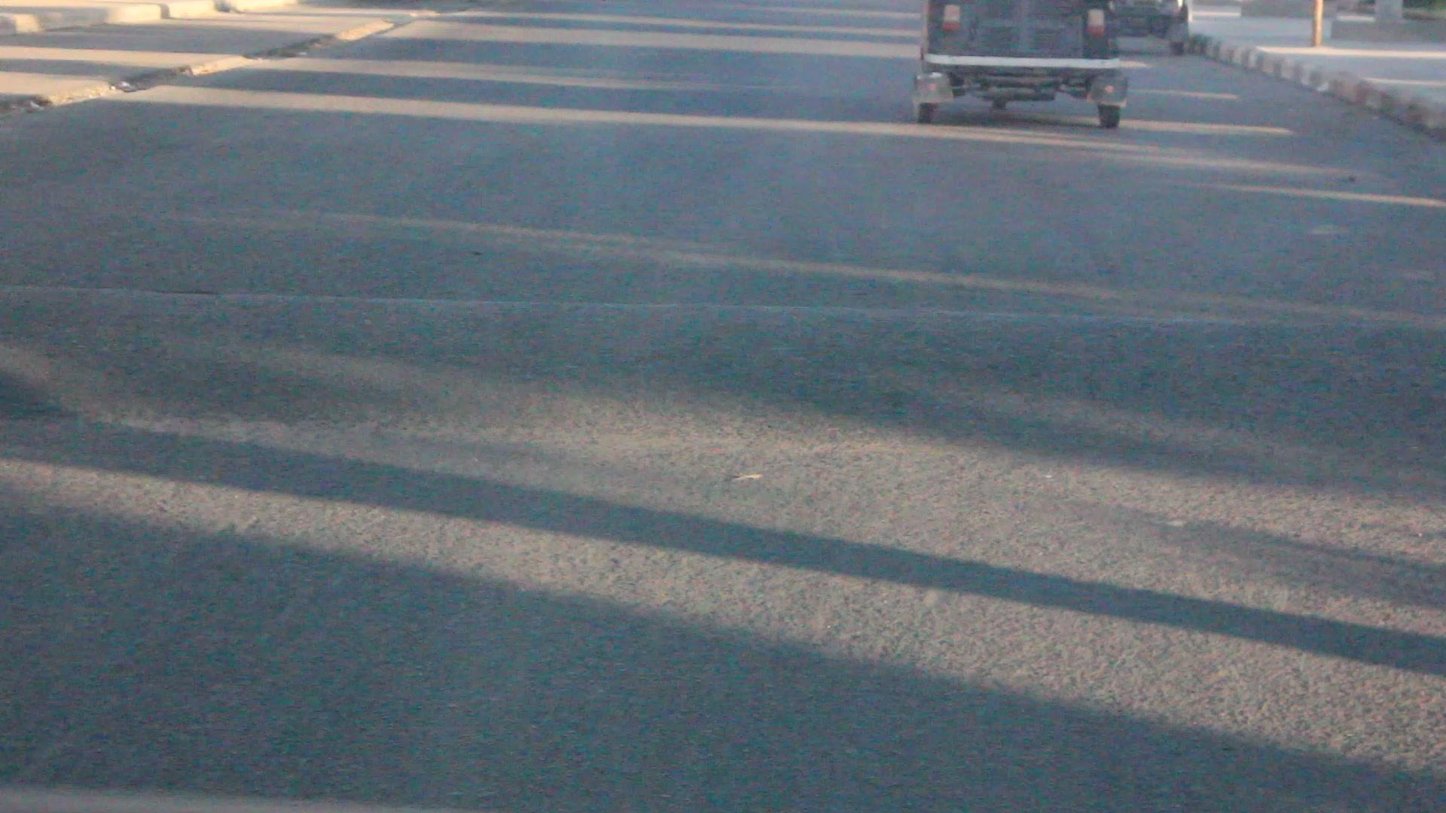Bump: (0, 278, 1445, 476)
